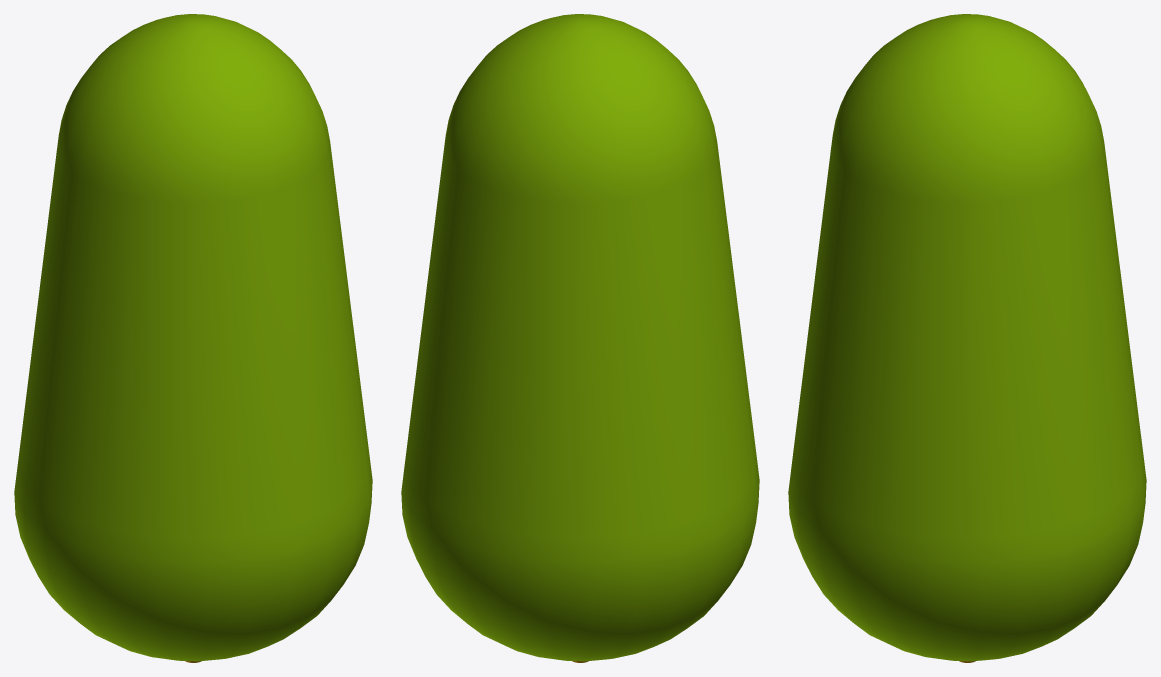
Rendered from HPSmro10m.glb.
3 views of the same model, side by side, from view 1: azimuth 30°, elevation 25°; view 2: azimuth 150°, elevation 25°; view 3: azimuth 270°, elevation 25° (orthographic).
Visible parts, largest first — view 1: HPSmro10m; view 2: HPSmro10m; view 3: HPSmro10m.
Part boxes in pixels (left/top/right/bottom): HPSmro10m: left=14, top=14, right=372, bottom=662; HPSmro10m: left=401, top=14, right=759, bottom=662; HPSmro10m: left=788, top=14, right=1146, bottom=662.
Bounding box in the file's own units: 5.1 × 10 × 5.1.
